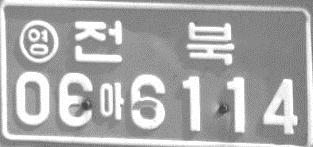0: (14, 70, 51, 126)
1: (218, 76, 256, 134), (174, 75, 208, 132)
4: (262, 78, 298, 134)
6: (129, 73, 165, 131), (57, 71, 93, 128)
아: (98, 80, 124, 121)
영: (17, 19, 59, 64)
전북_D: (72, 20, 234, 66)
